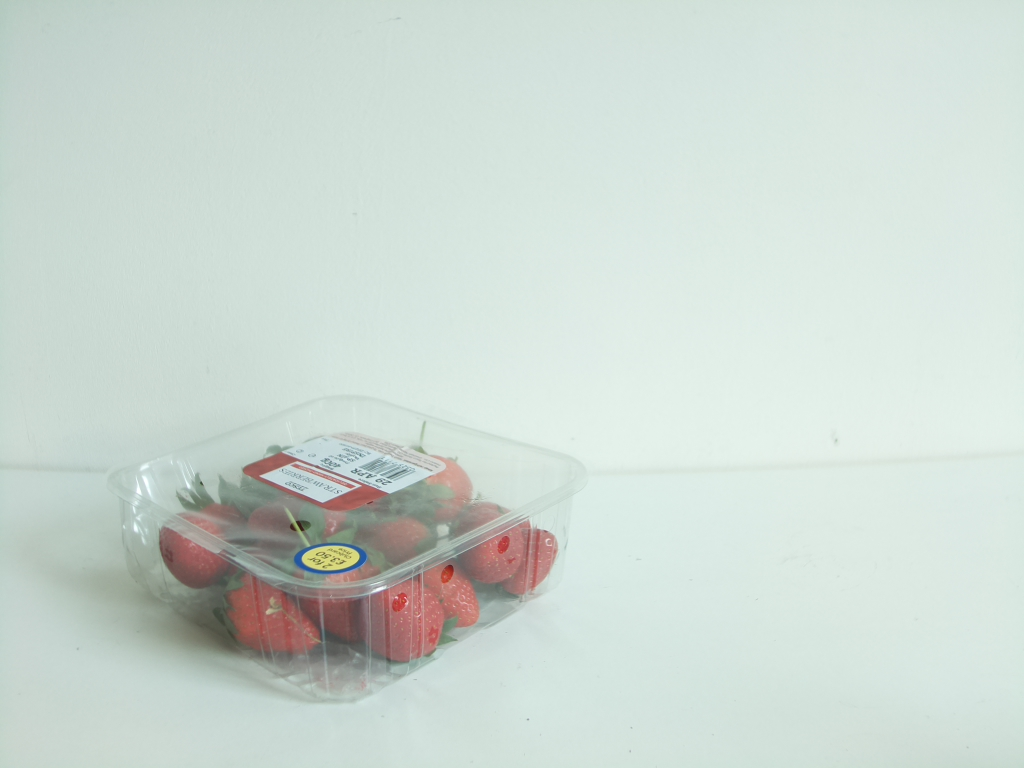soft-fruit: (110, 394, 594, 701)
